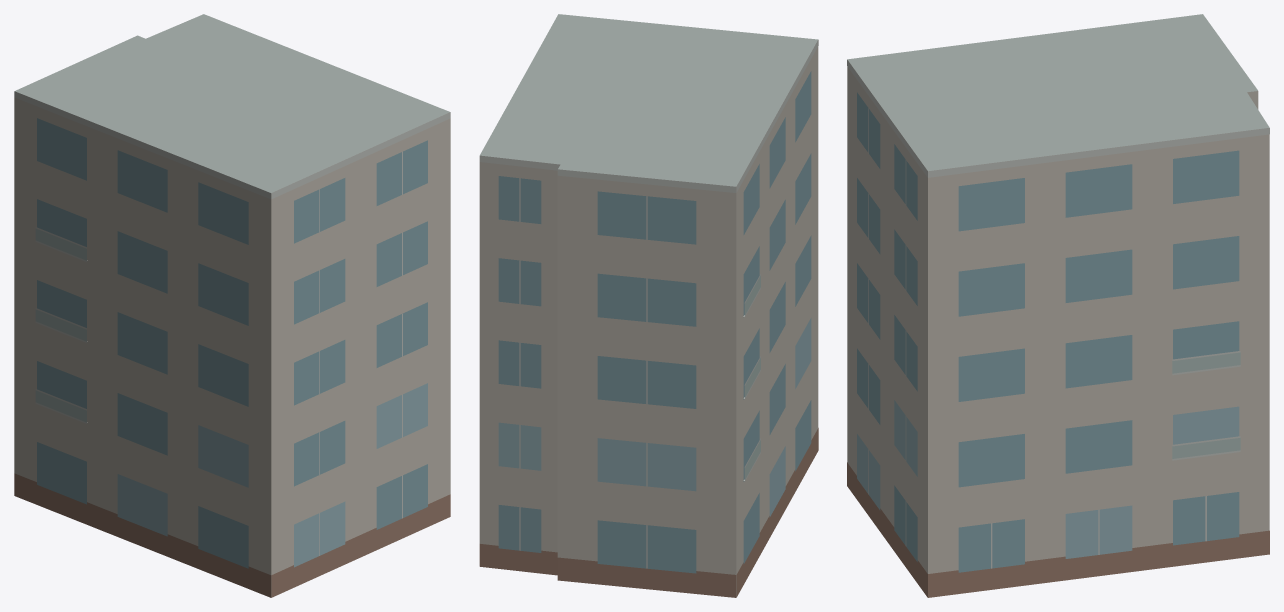
File: survey-upis-32858729.glb
The picture shows the model from 3 angles, left to right: view 1: azimuth 30°, elevation 25°; view 2: azimuth 150°, elevation 25°; view 3: azimuth 270°, elevation 25°; orthographic projection. The views are drawn at different scales.
Parts seen in each view (by area): view 1: survey-upis-32858729.tmp; view 2: survey-upis-32858729.tmp; view 3: survey-upis-32858729.tmp.
Part boxes in pixels (<box>): survey-upis-32858729.tmp: <box>14,14,450,597</box>; survey-upis-32858729.tmp: <box>479,14,818,597</box>; survey-upis-32858729.tmp: <box>847,14,1269,597</box>.
Bounding box in the file's own units: 12.42 × 15.7 × 14.1.
